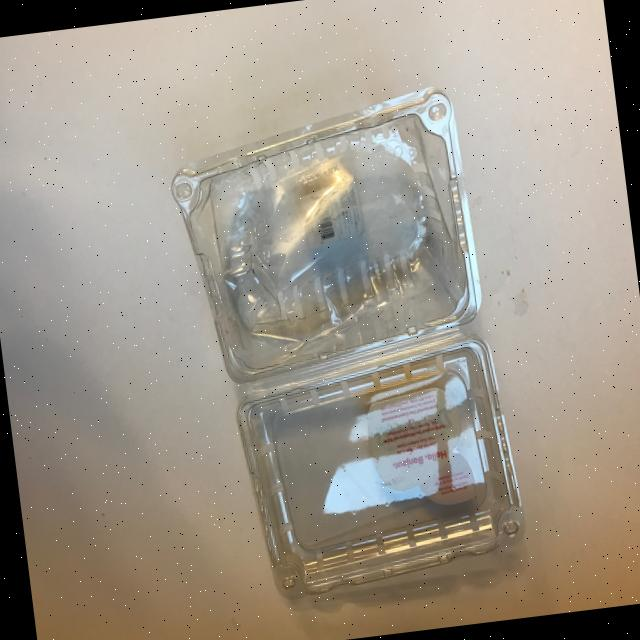plastic: (124, 68, 556, 616)
